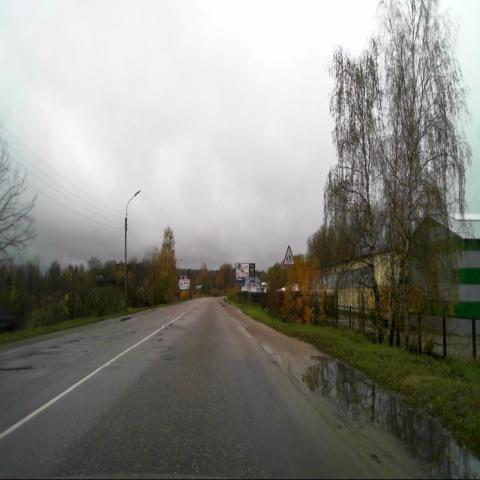1_23: (282, 242, 296, 266)
